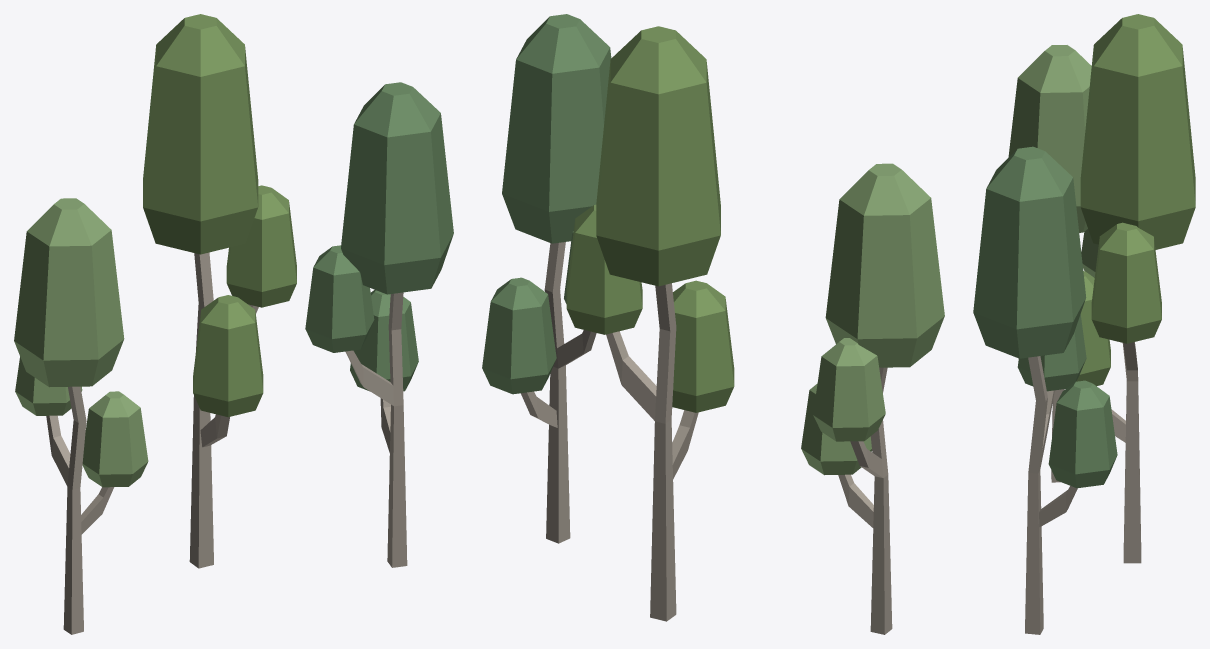
File: veg_northern_grove.glb
3 views of the same model, side by side, from view 1: azimuth 30°, elevation 25°; view 2: azimuth 150°, elevation 25°; view 3: azimuth 270°, elevation 25° (orthographic). The views are drawn at different scales.
Parts seen in each view (by area): view 1: clump_0, clump_2, clump_1; view 2: clump_0, clump_2, clump_1; view 3: clump_0, clump_2, clump_1.
Boxes of the visible parts, box(x1,y1,x2,y2) form: clump_0: box(143, 14, 296, 568); clump_2: box(305, 82, 453, 567); clump_1: box(14, 198, 148, 634); clump_0: box(566, 26, 734, 621); clump_2: box(482, 14, 611, 543); clump_1: box(801, 163, 944, 634); clump_0: box(1076, 14, 1195, 563); clump_2: box(973, 146, 1117, 634); clump_1: box(1008, 45, 1098, 482).
Bounding box in the file's own units: 1.52 × 1.94 × 0.7254.
